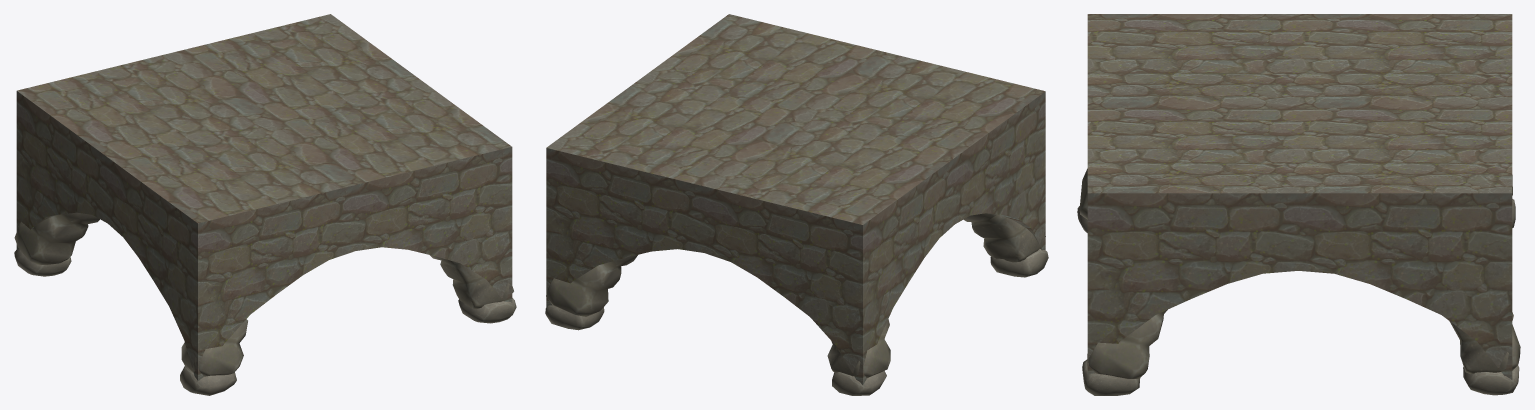
File: SM_FW01_Ruins_Int_Ceiling_A_4x4_01.fbx
3 views of the same model, side by side, from view 1: azimuth 30°, elevation 25°; view 2: azimuth 150°, elevation 25°; view 3: azimuth 270°, elevation 25° (orthographic). The views are drawn at different scales.
Parts seen in each view (by area): view 1: SM_FW01_Ruins_Int_Ceiling_A_4x4_01, SM_FW01_Ruins_Int_Ceiling_A_4x4_01_LOD0; view 2: SM_FW01_Ruins_Int_Ceiling_A_4x4_01, SM_FW01_Ruins_Int_Ceiling_A_4x4_01_LOD0; view 3: SM_FW01_Ruins_Int_Ceiling_A_4x4_01, SM_FW01_Ruins_Int_Ceiling_A_4x4_01_LOD0.
Boxes of the visible parts, x1,y1,x2,y2 form: SM_FW01_Ruins_Int_Ceiling_A_4x4_01: (16,14,512,380); SM_FW01_Ruins_Int_Ceiling_A_4x4_01_LOD0: (14,212,516,395); SM_FW01_Ruins_Int_Ceiling_A_4x4_01: (546,14,1045,384); SM_FW01_Ruins_Int_Ceiling_A_4x4_01_LOD0: (545,213,1048,395); SM_FW01_Ruins_Int_Ceiling_A_4x4_01: (1087,14,1512,379); SM_FW01_Ruins_Int_Ceiling_A_4x4_01_LOD0: (1077,168,1520,395).
Size of what is drawn, in the model's own units: 4.16 by 2.14 by 4.17.
